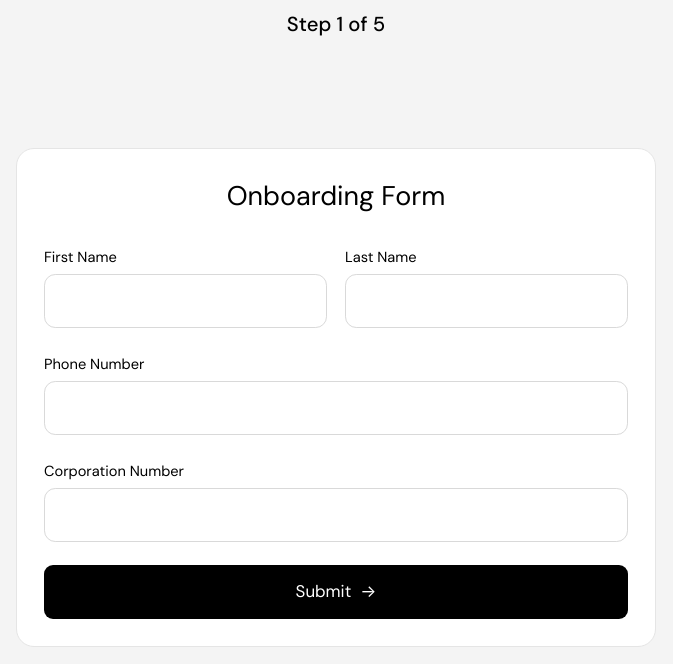
Scenario: OnboardingPage › allows only digits and a leading + in the phone number
Type "+1 (306) 277-6103+abc" into the field labelled "Phone Number". click: (336, 408)
box: x1=44 y1=381 x2=628 y2=435
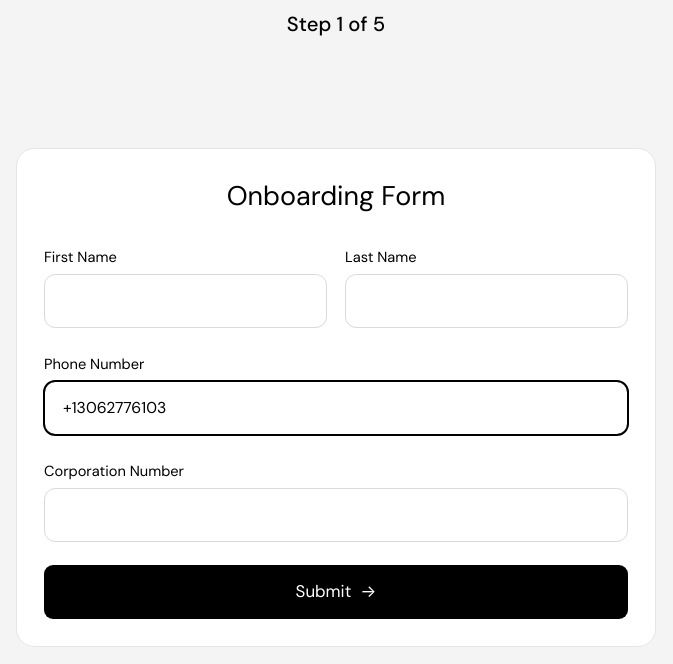
Expected: the field labelled "Phone Number" holds "+13062776103", x1=44 y1=381 x2=628 y2=435
